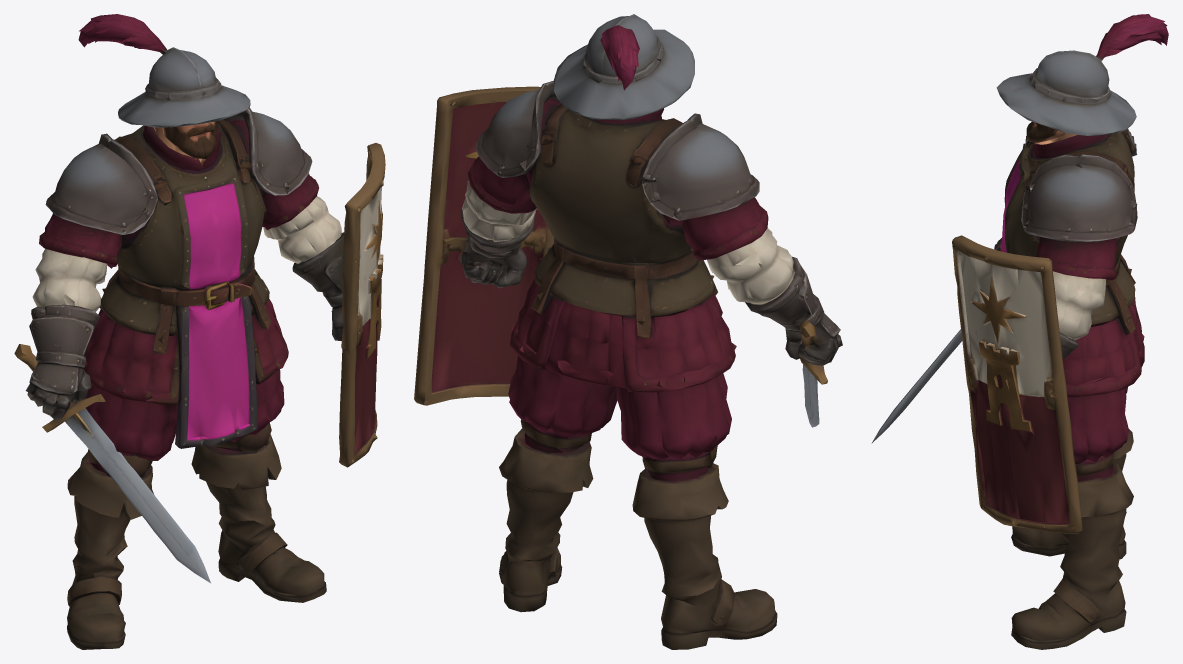
File: rig_source_facing_pz.glb
The picture shows the model from 3 angles, left to right: view 1: azimuth 30°, elevation 25°; view 2: azimuth 150°, elevation 25°; view 3: azimuth 270°, elevation 25°; orthographic projection. The views are drawn at different scales.
Visible parts, largest first — view 1: soldier_rigsrc; view 2: soldier_rigsrc; view 3: soldier_rigsrc.
Part boxes in pixels (<box>): soldier_rigsrc: <box>14,14,385,649</box>; soldier_rigsrc: <box>414,14,842,649</box>; soldier_rigsrc: <box>871,14,1168,649</box>.
Bounding box in the file's own units: 1.18 × 1.75 × 0.8396.
Materials: 1 (1 with a texture image).
